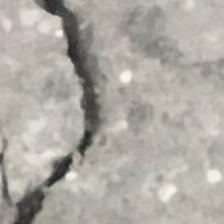Crack: (4, 0, 122, 224)
